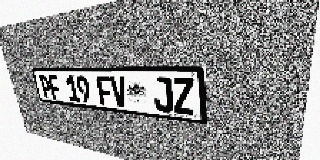1: (64, 75, 80, 102)
9: (75, 76, 92, 104)
F: (96, 76, 114, 106), (47, 75, 62, 100)
J: (152, 77, 174, 113)
P: (38, 75, 53, 99)
V: (110, 76, 129, 108)
Z: (172, 77, 195, 115)
